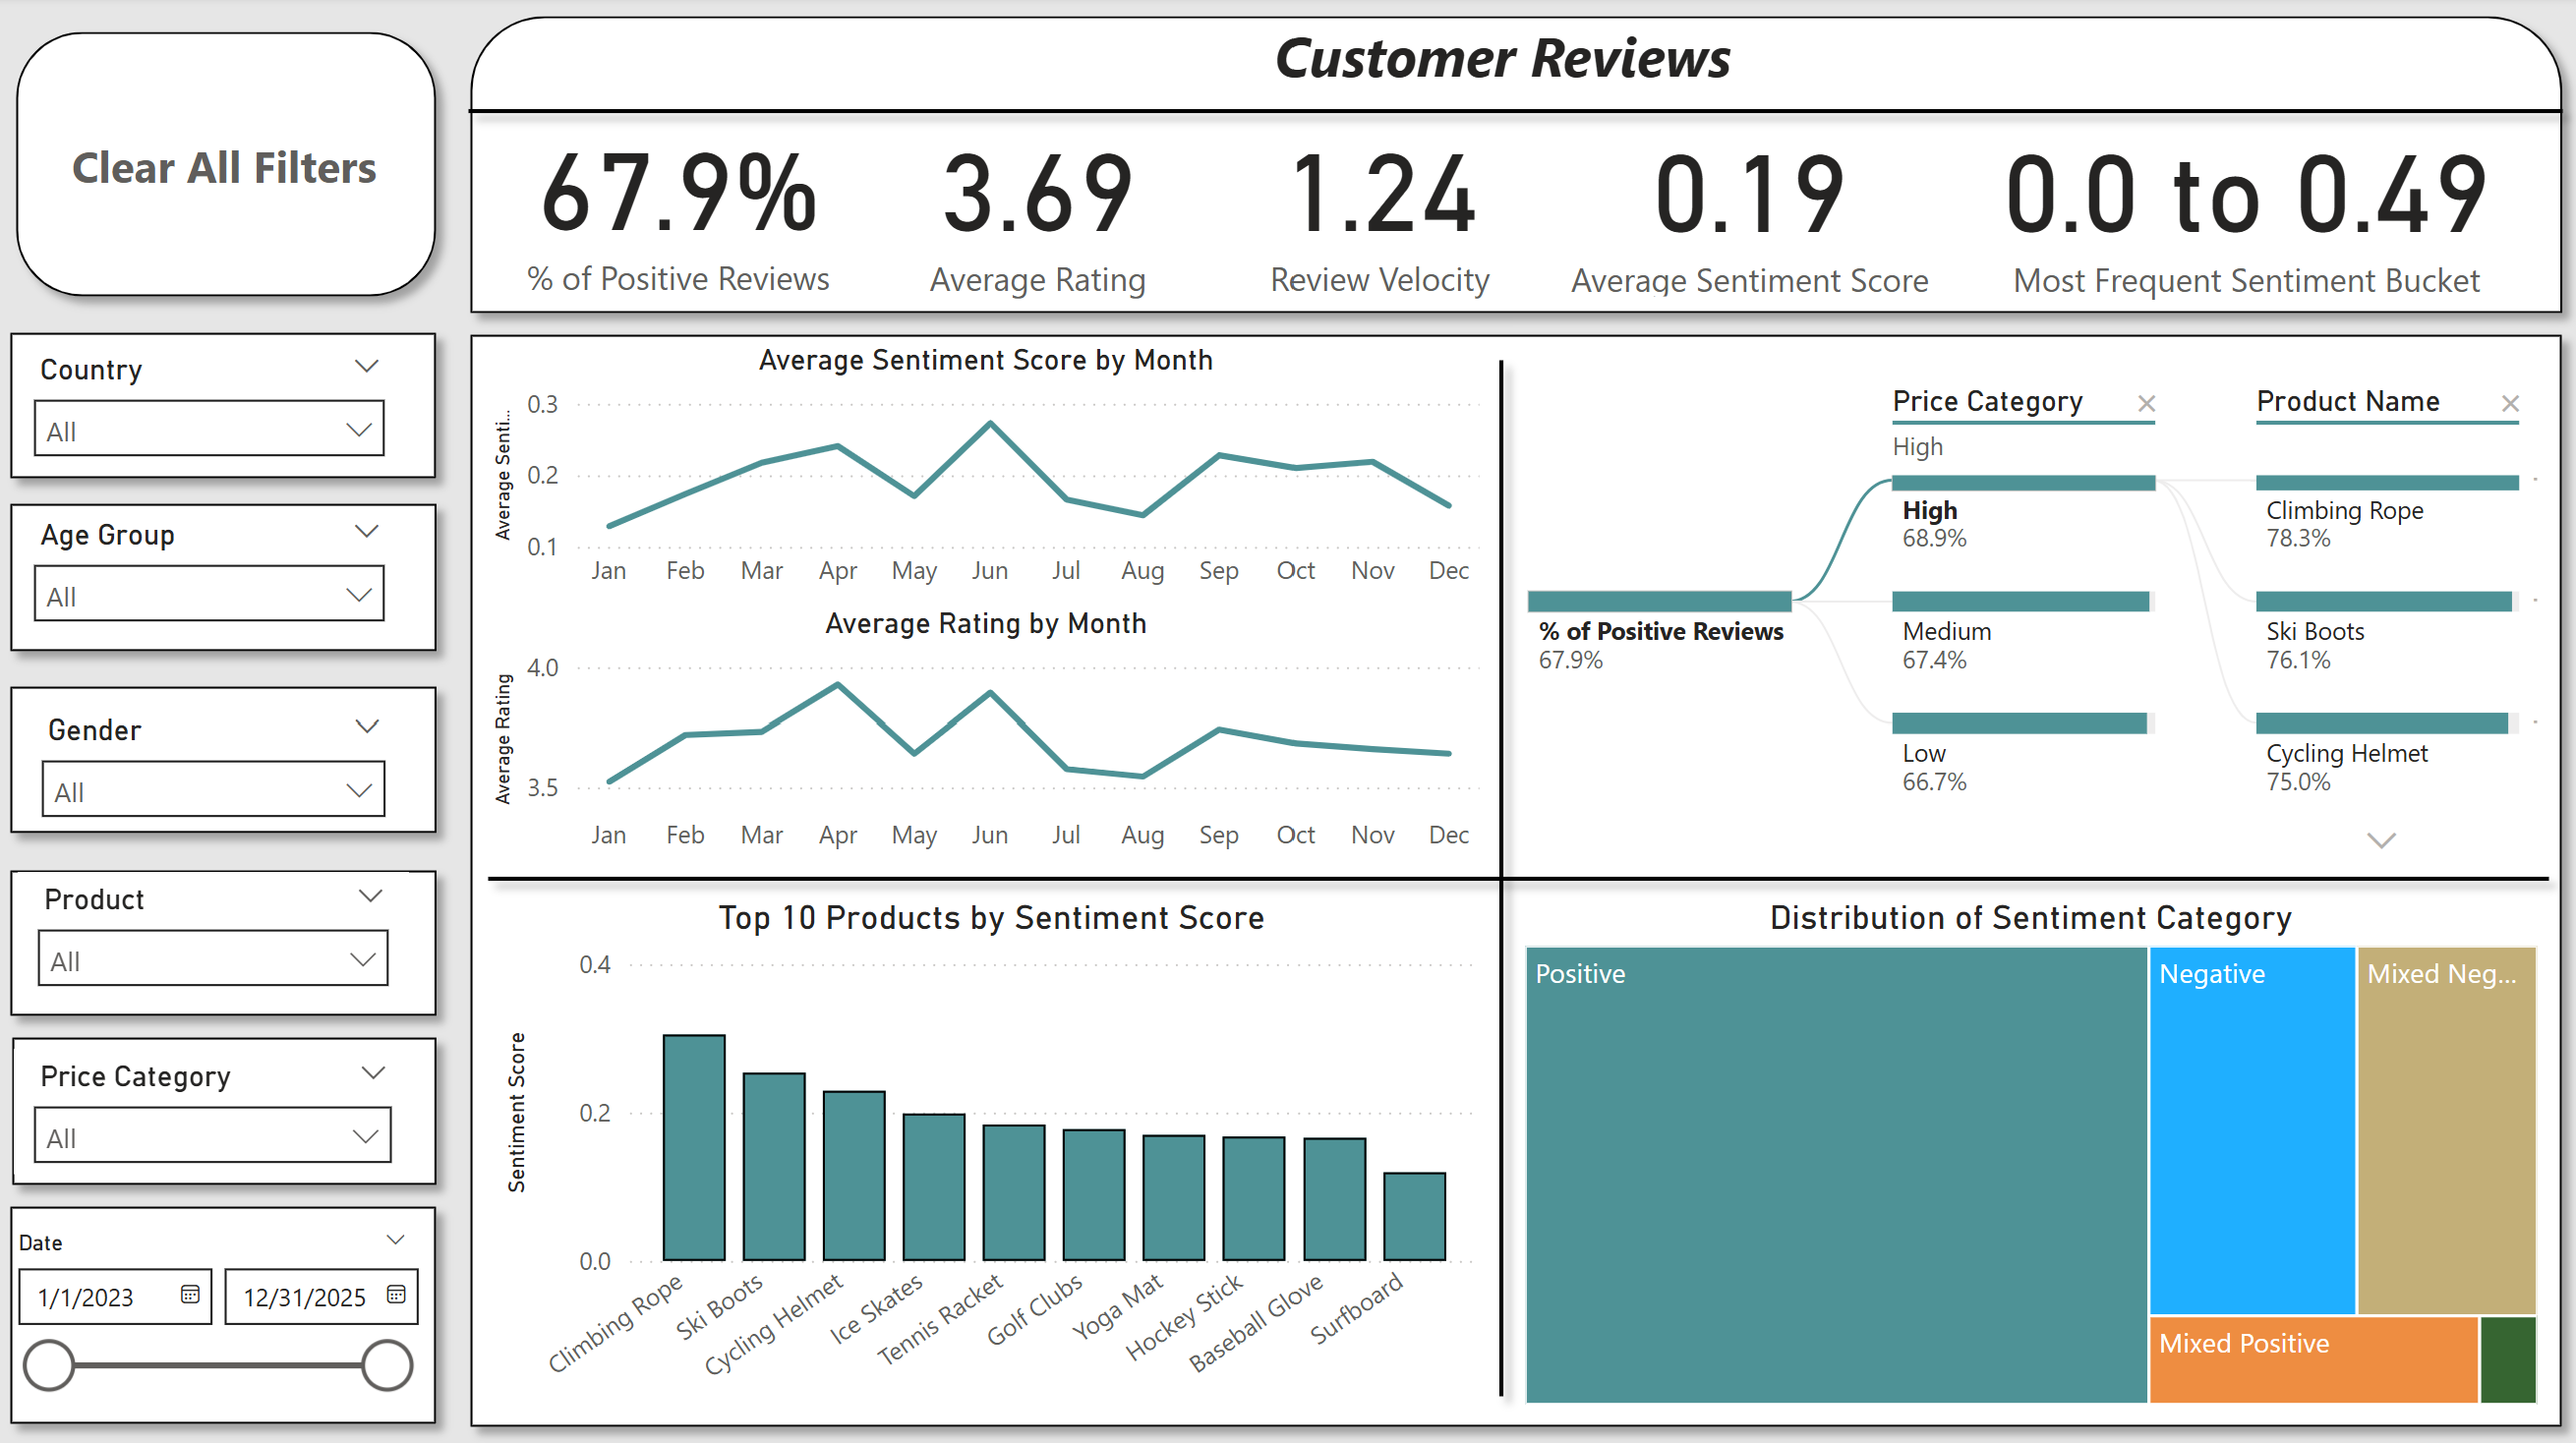

This screenshot's page, from the dashboard's own definition file:
{"tool":"powerbi","page":{"name":"Customer Reviews Details","canvas":[1280,720],"ordinal":2},"visuals":[{"type":"shape","box":[227.8,1,1052.2,164.9],"z":0},{"type":"shape","box":[228.1,158.2,1051.9,557.8],"z":1000},{"type":"shape","box":[0,157.6,228.6,90],"z":2000},{"type":"shape","box":[2.9,8.8,225.7,148.8],"z":3000},{"type":"shape","box":[0,241.8,228.8,90.9],"z":4000},{"type":"shape","box":[0,422.7,228.8,89.9],"z":5000},{"type":"shape","box":[0,589.4,228.6,125.5],"z":6000},{"type":"shape","box":[1,505.6,227.8,90.9],"z":7000},{"type":"actionButton","box":[12.6,17.5,204.3,132.3],"z":8000},{"type":"slicer","fields":{"Values":["dim_customers.Country"]},"box":[10.7,171.2,193.6,61.3],"z":9000},{"type":"slicer","fields":{"Values":["dim_customers.AgeGroup"]},"box":[10.7,252.9,193.6,61.3],"z":10000},{"type":"slicer","fields":{"Values":["dim_calendar.Date"]},"box":[0,605,216.9,96.3],"z":11000},{"type":"slicer","fields":{"Values":["dim_products.PriceCategory"]},"box":[11,520.6,196.8,62],"z":12000},{"type":"shape","box":[0,332.7,228.8,89.9],"z":13000},{"type":"slicer","fields":{"Values":["dim_customers.Gender"]},"box":[15,348.7,189.9,57],"z":14000},{"type":"slicer","fields":{"Values":["dim_products.ProductName"]},"box":[12.6,432.8,193.6,63.2],"z":15000},{"type":"card","fields":{"Values":["fact_reviews_sentiment.Dominant Sentiment Bucket"]},"box":[965.8,47.7,297.6,108],"z":17000},{"type":"card","fields":{"Values":["fact_reviews_sentiment.Reviews per Day"]},"box":[610.8,47.7,150.8,107],"z":18000},{"type":"card","fields":{"Values":["Avg(fact_reviews_sentiment.Rating)"]},"box":[442.6,47.7,149.8,107],"z":19000},{"type":"shape","box":[226.6,40.9,1053.4,32.1],"z":20000},{"type":"textbox","box":[629.3,5.8,250.9,47.7],"z":23000},{"type":"card","fields":{"Values":["Avg(fact_reviews_sentiment.SentimentScore)"]},"box":[772.3,49.6,193.6,104.1],"z":25000},{"type":"card","fields":{"Values":["fact_reviews_sentiment.Positive Review %"]},"box":[236.4,49.6,206.2,102.1],"z":26000},{"type":"shape","box":[719.8,171.2,52.5,530.1],"z":29000},{"type":"shape","box":[236.4,413.4,1036.8,45.7],"z":30000},{"type":"clusteredColumnChart","title":"Top 10 Products by Sentiment Score","fields":{"Category":["dim_products.ProductName"],"Y":["Avg(fact_reviews_sentiment.SentimentScore)"]},"box":[249,445.5,491.2,255.8],"z":32000},{"type":"lineChart","title":"Average Rating by Month","fields":{"Category":["dim_calendar.MonthNameShort"],"Y":["Avg(fact_reviews_sentiment.Rating)"]},"box":[243.2,301.5,497,131.3],"z":33000},{"type":"treemap","title":"Distribution of Sentiment Category","fields":{"Group":["fact_reviews_sentiment.SentimentCategory"],"Values":["CountNonNull(fact_reviews_sentiment.ReviewID)"]},"box":[752.8,445.5,510.6,255.8],"z":33001},{"type":"lineChart","title":"Average Sentiment Score by Month","fields":{"Category":["dim_calendar.MonthNameShort"],"Y":["Avg(fact_reviews_sentiment.SentimentScore)"]},"box":[243.2,171.2,497,131.3],"z":33002},{"type":"decompositionTreeVisual","fields":{"Analyze":["fact_reviews_sentiment.PositiveReviewsPercentage"],"ExplainBy":["dim_products.PriceCategory","dim_products.ProductName","dim_customers.Country","dim_customers.Gender","dim_calendar.Year","dim_calendar.Quarter","dim_calendar.MonthNameLong"]},"box":[751.9,175.1,511.6,261.6],"z":33003}]}

Visuals, with their boxes in screenshot pixels (x1, y1, x2, y2), scaled from the page's 1280x720 canvas onto the 2576x1443 screenshot:
shape: Rect(458, 2, 2575, 332)
shape: Rect(459, 317, 2575, 1435)
shape: Rect(0, 316, 460, 496)
shape: Rect(6, 18, 460, 316)
shape: Rect(0, 485, 460, 666)
shape: Rect(0, 847, 460, 1027)
shape: Rect(0, 1182, 460, 1433)
shape: Rect(2, 1013, 460, 1195)
actionButton: Rect(26, 35, 437, 300)
slicer - dim_customers.Country: Rect(22, 343, 411, 466)
slicer - dim_customers.AgeGroup: Rect(22, 507, 411, 630)
slicer - dim_calendar.Date: Rect(0, 1213, 437, 1406)
slicer - dim_products.PriceCategory: Rect(23, 1043, 418, 1168)
shape: Rect(0, 666, 460, 847)
slicer - dim_customers.Gender: Rect(30, 699, 412, 813)
slicer - dim_products.ProductName: Rect(26, 867, 415, 994)
card - fact_reviews_sentiment.Dominant Sentiment Bucket: Rect(1944, 95, 2543, 312)
card - fact_reviews_sentiment.Reviews per Day: Rect(1229, 95, 1533, 310)
card - Avg(fact_reviews_sentiment.Rating): Rect(891, 95, 1193, 310)
shape: Rect(456, 82, 2575, 146)
textbox: Rect(1266, 12, 1772, 107)
card - Avg(fact_reviews_sentiment.SentimentScore): Rect(1554, 99, 1944, 308)
card - fact_reviews_sentiment.Positive Review %: Rect(476, 99, 891, 304)
shape: Rect(1448, 343, 1554, 1406)
shape: Rect(476, 829, 2562, 920)
"Top 10 Products by Sentiment Score" clusteredColumnChart: Rect(501, 893, 1490, 1406)
"Average Rating by Month" lineChart: Rect(490, 605, 1490, 867)
"Distribution of Sentiment Category" treemap: Rect(1515, 893, 2543, 1406)
"Average Sentiment Score by Month" lineChart: Rect(490, 343, 1490, 606)
decompositionTreeVisual - fact_reviews_sentiment.PositiveReviewsPercentage x dim_products.PriceCategory: Rect(1513, 351, 2543, 875)
